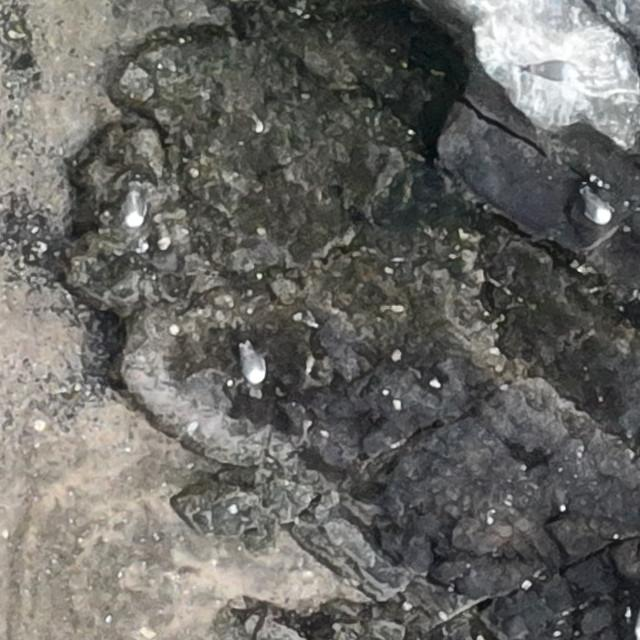umineko: (528, 60, 573, 79), (125, 182, 144, 227), (240, 348, 262, 386), (586, 196, 610, 223)
